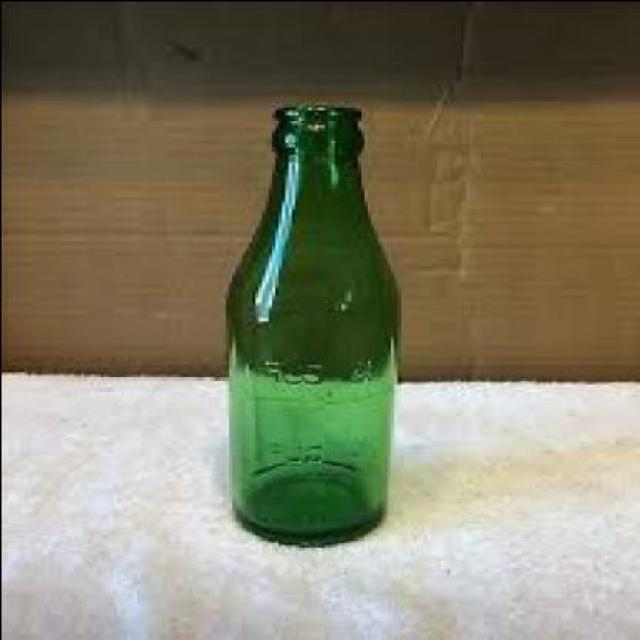cardboard: (1, 1, 638, 377)
glass: (228, 101, 406, 544)
